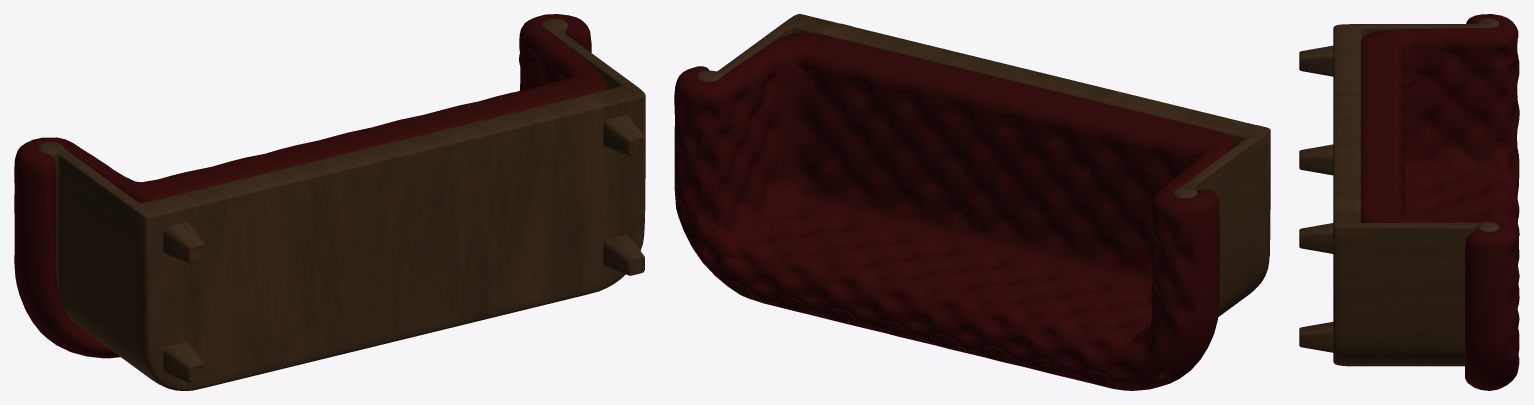
Rendered from Sofa.fbx.
3 views of the same model, side by side, from view 1: azimuth 30°, elevation 25°; view 2: azimuth 150°, elevation 25°; view 3: azimuth 270°, elevation 25° (orthographic). The views are drawn at different scales.
Parts seen in each view (by area): view 1: Sofa.002, Sofa.003, Sofa.001; view 2: Sofa.003, Sofa.002; view 3: Sofa.003, Sofa.002, Sofa.001.
Boxes of the visible parts, <box> form: Sofa.002: <box>37,19,645,390</box>; Sofa.003: <box>14,14,608,358</box>; Sofa.001: <box>163,115,644,382</box>; Sofa.003: <box>674,32,1235,390</box>; Sofa.002: <box>696,14,1270,316</box>; Sofa.003: <box>1361,14,1519,390</box>; Sofa.002: <box>1333,18,1499,366</box>; Sofa.001: <box>1299,45,1333,352</box>.
Size of the model in its own units: 3.1 by 1.18 by 1.26.
